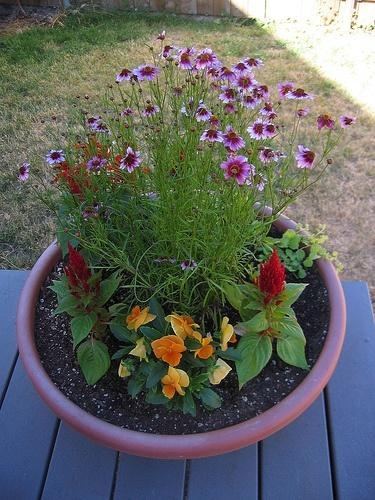pottedplant: (15, 29, 359, 463)
